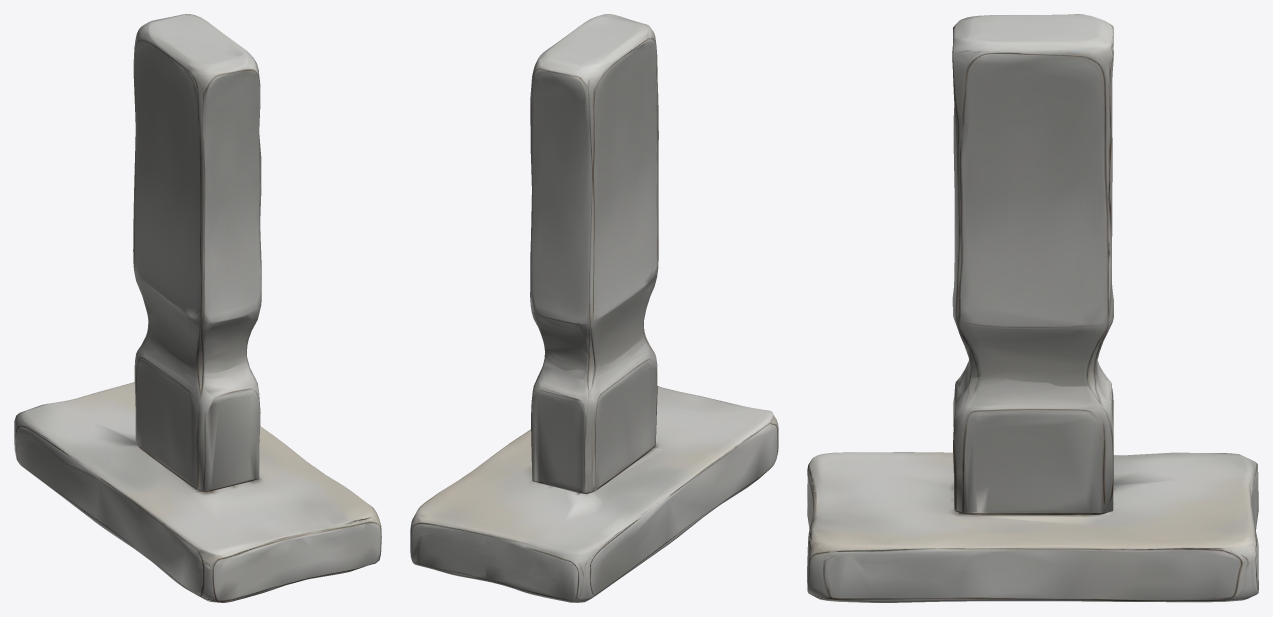
3 views of the same model, side by side, from view 1: azimuth 30°, elevation 25°; view 2: azimuth 150°, elevation 25°; view 3: azimuth 270°, elevation 25° (orthographic). The views are drawn at different scales.
Visible parts, largest first — view 1: node_0; view 2: node_0; view 3: node_0.
Boxes of the visible parts, x1,y1,x2,y2 form: node_0: [14, 14, 381, 602]; node_0: [410, 14, 778, 602]; node_0: [807, 14, 1258, 602].
Bounding box in the file's own units: 0.3512 × 0.8868 × 0.6876.
Materials: 1 (1 with a texture image).
